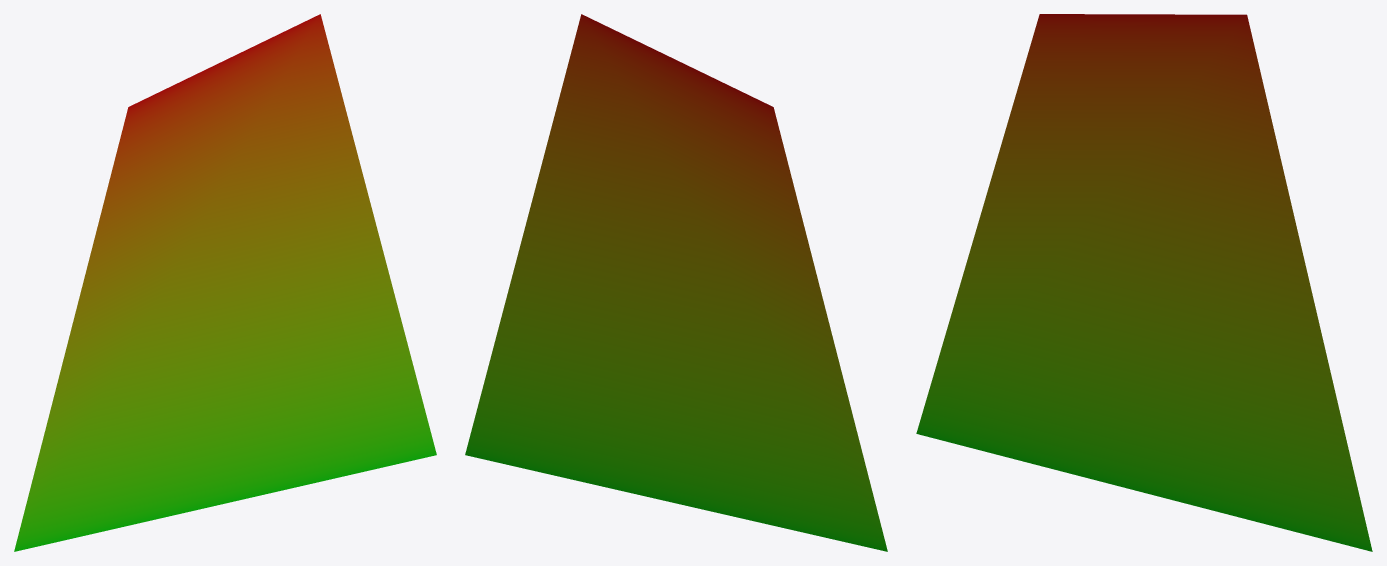
The model's file is Var5_LOD4.fbx.
3 renders of one model, left to right at view 1: azimuth 30°, elevation 25°; view 2: azimuth 150°, elevation 25°; view 3: azimuth 330°, elevation 25°, orthographic. The views are drawn at different scales.
Parts seen in each view (by area): view 1: _fdbd_Var5_LOD4; view 2: _fdbd_Var5_LOD4; view 3: _fdbd_Var5_LOD4.
Part boxes in pixels (left/top/right/bottom): _fdbd_Var5_LOD4: left=14, top=14, right=436, bottom=551; _fdbd_Var5_LOD4: left=465, top=14, right=887, bottom=551; _fdbd_Var5_LOD4: left=916, top=14, right=1372, bottom=551.
Size of the model in its own units: 48.7 by 51.66 by 7.99e-06.
